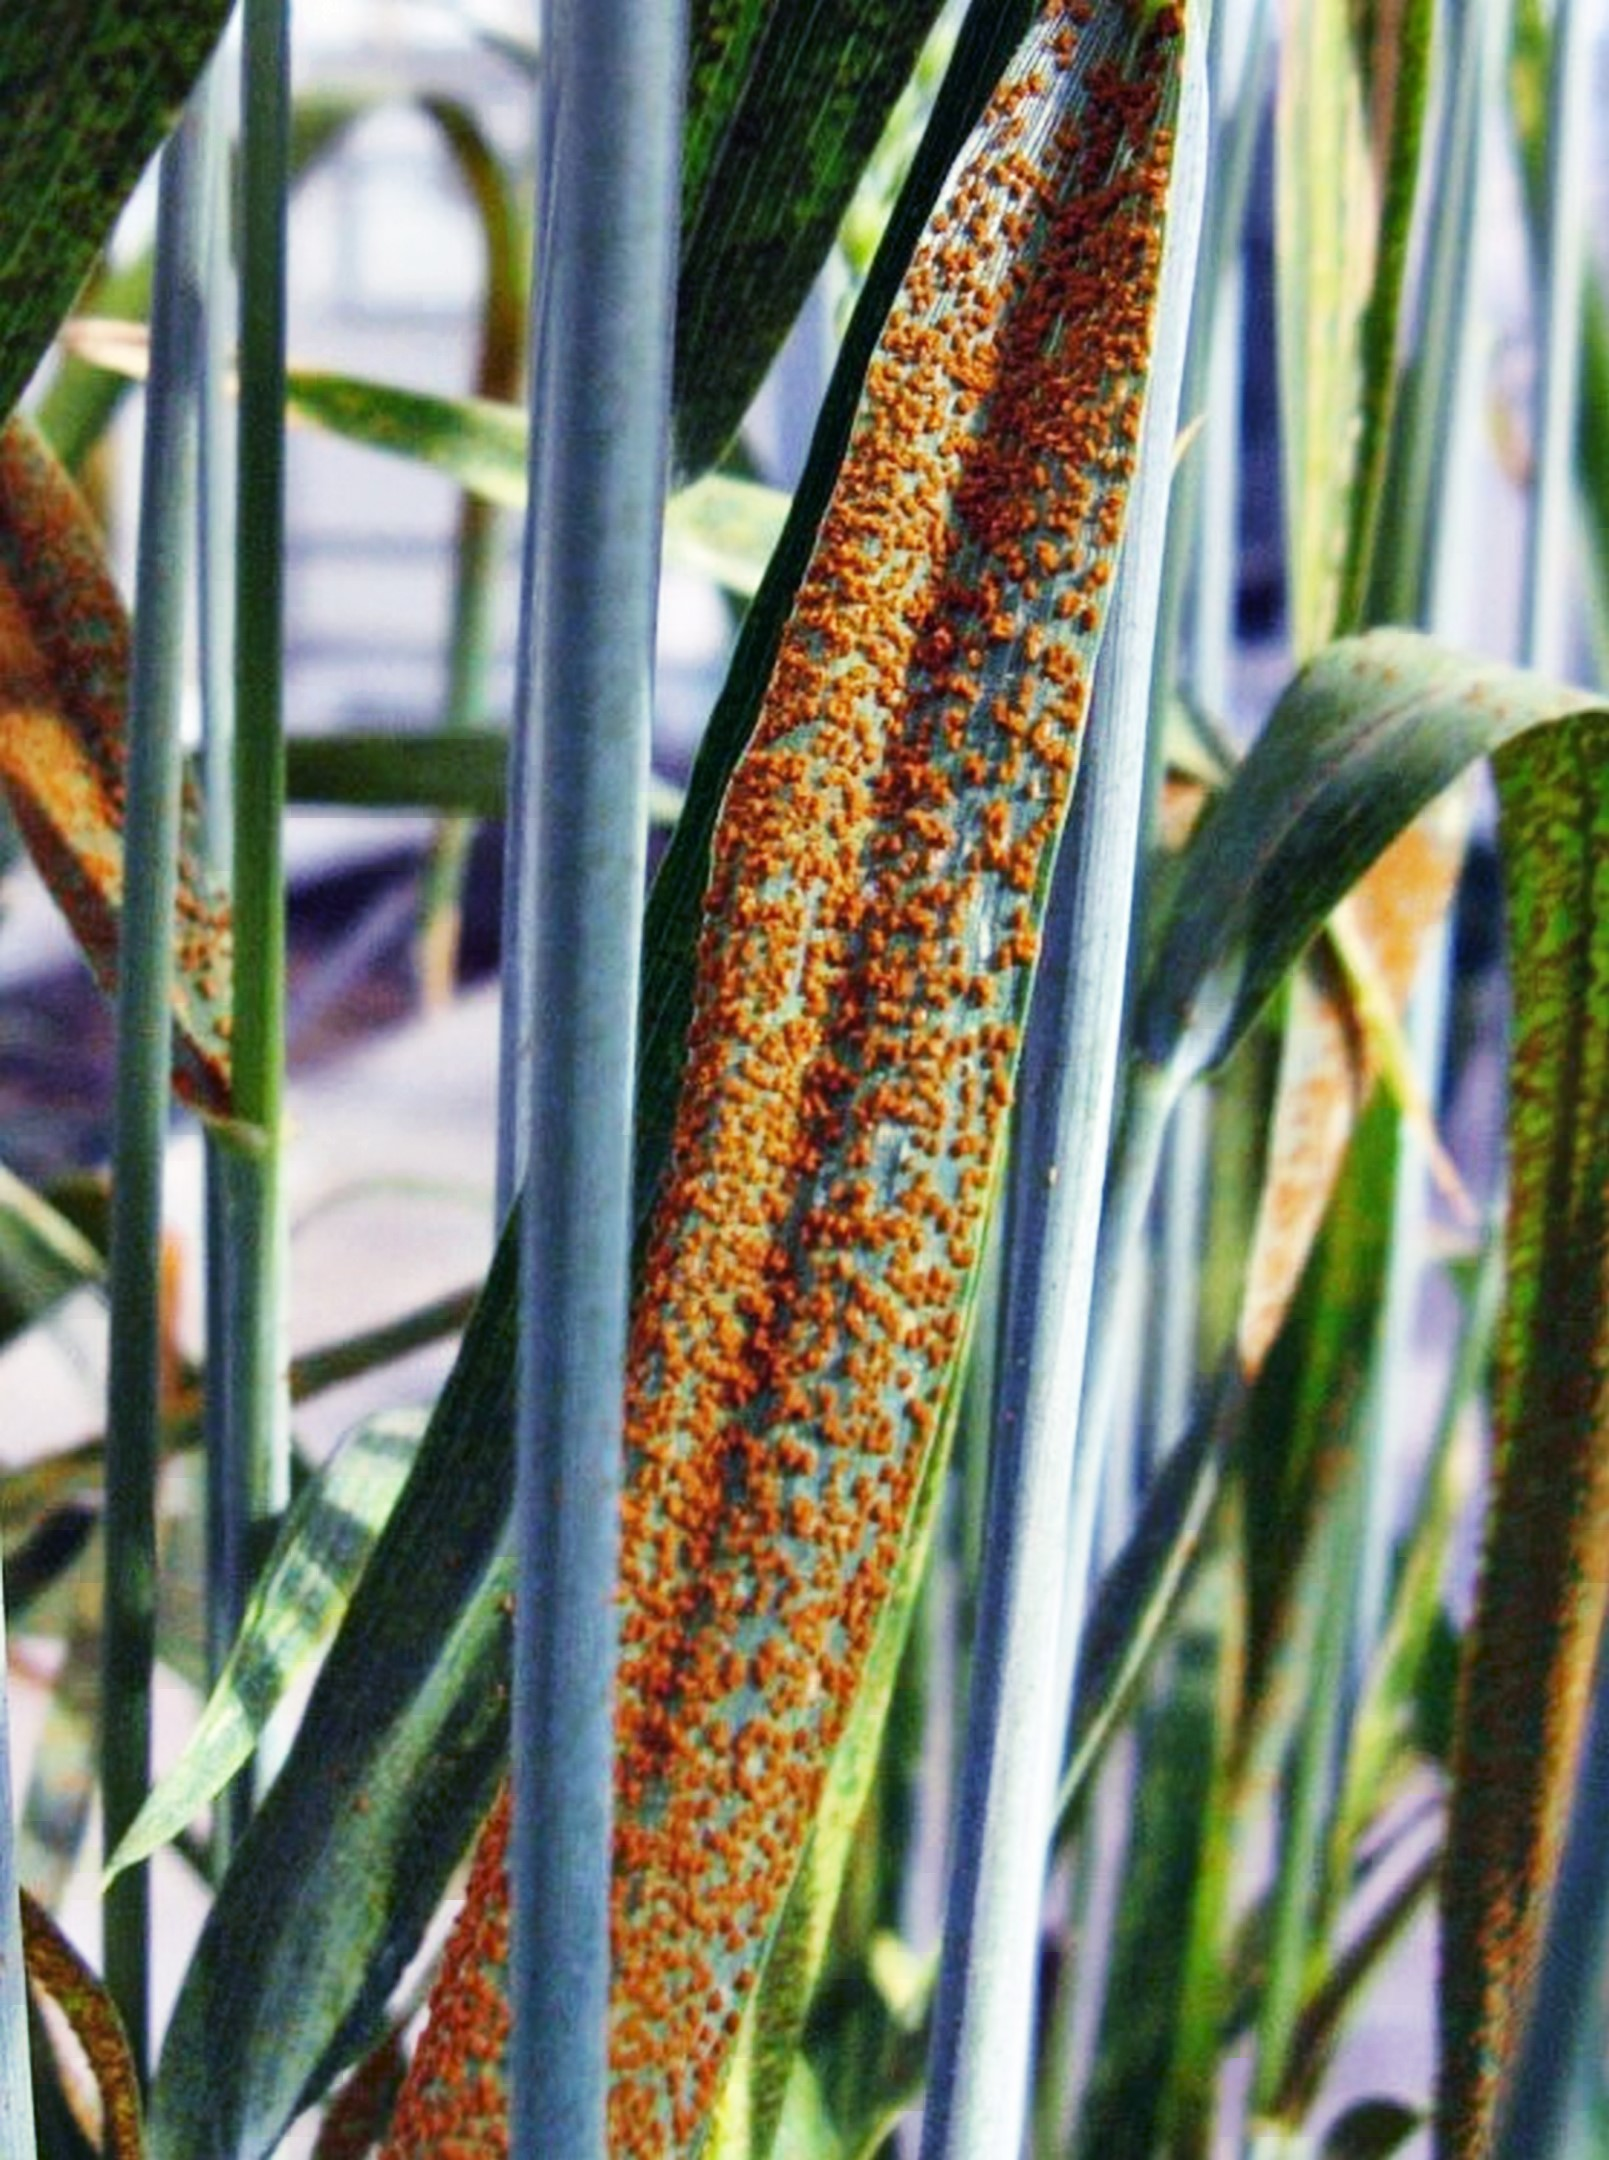Leaf Rust: (619, 167, 1153, 1825)
